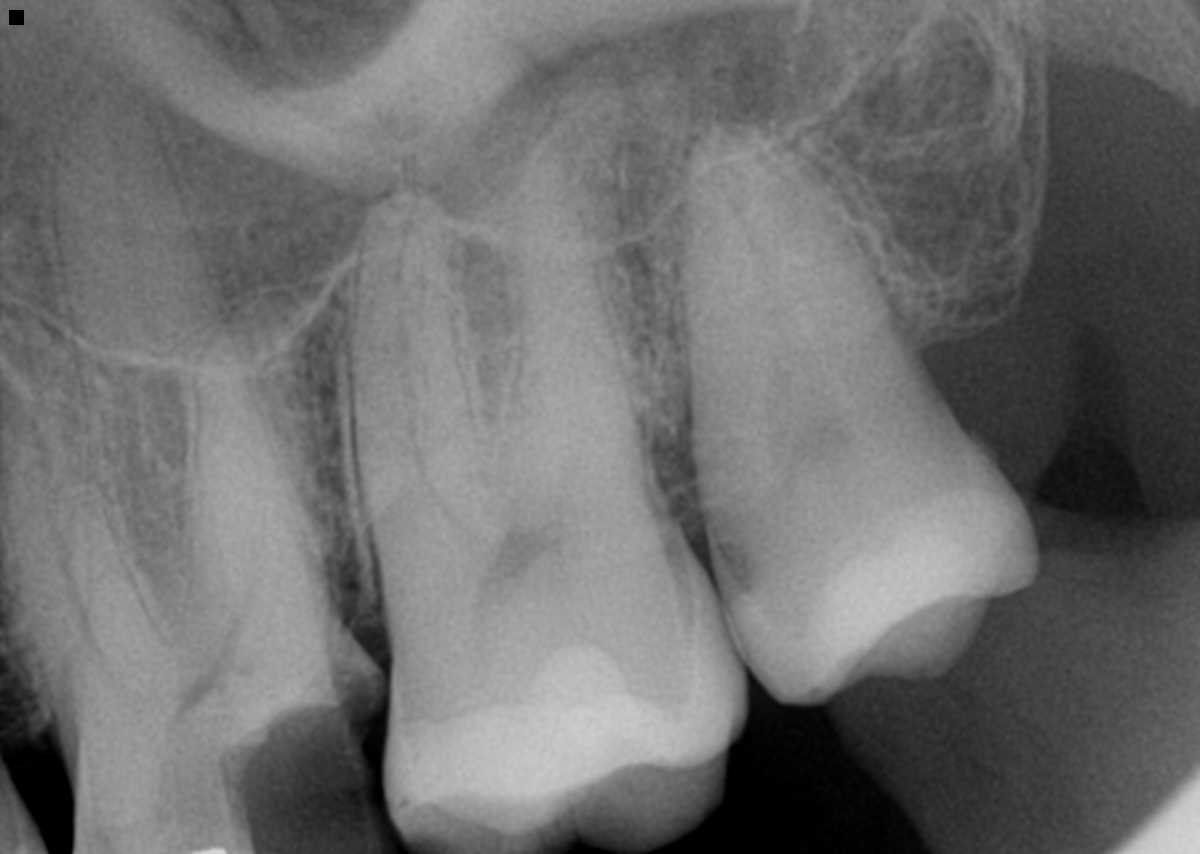Distal Canal: (35, 399, 118, 674)
Distal Root: (189, 283, 340, 614), (498, 201, 650, 460)
Main Canal: (706, 154, 845, 443)
Main Root: (686, 127, 915, 477)
Mesial Canal: (398, 232, 471, 527)
Mesial Root: (350, 193, 499, 590), (0, 304, 140, 703)
Palatal Canal: (103, 92, 147, 324)
Palatal Root: (51, 84, 307, 622), (403, 26, 646, 545)
decay: (233, 679, 391, 854), (705, 490, 771, 595)
